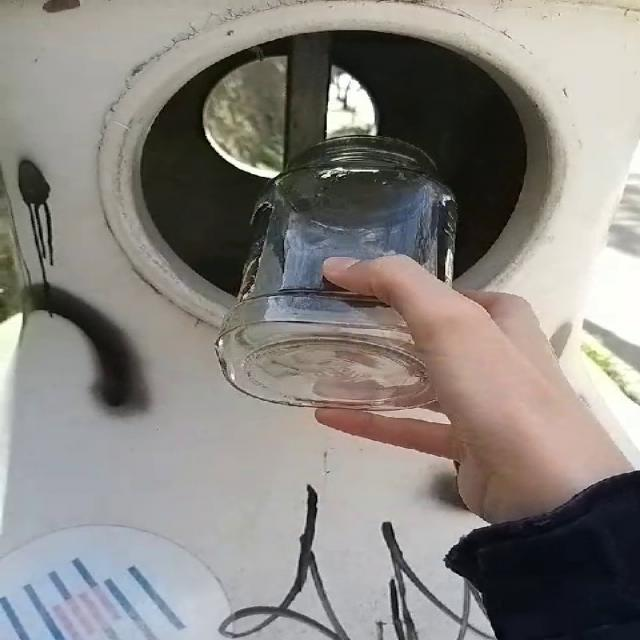Glass: (217, 136, 457, 409)
